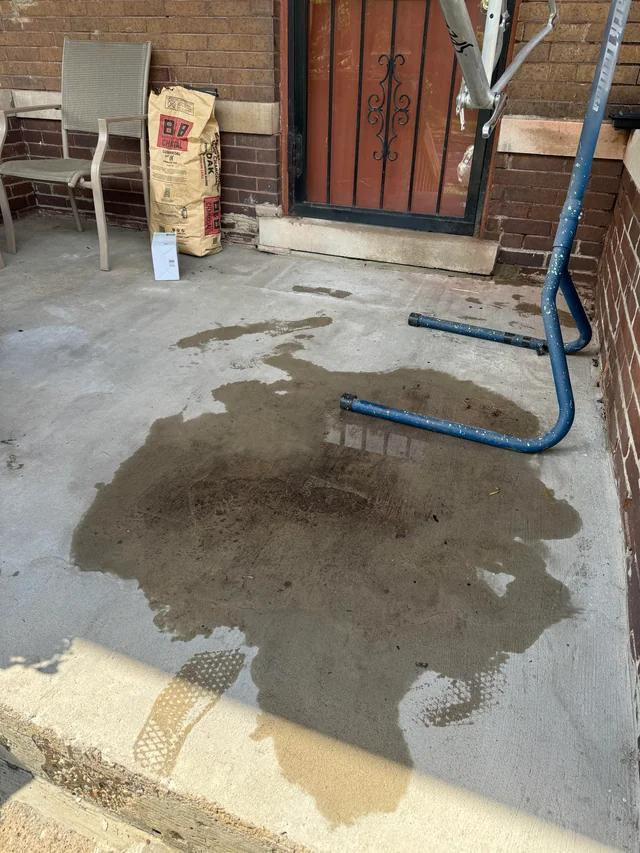water accumulation: (74, 341, 591, 824)
